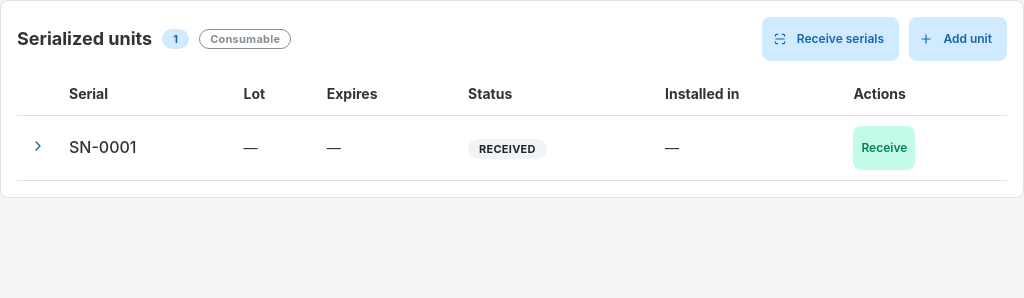
Test case: SerializedComponentsPanel › loads and shows per-unit usage history on expand
Step 1. Click the button named "Show history" → click(38, 146), box 27,135 -> 49,157
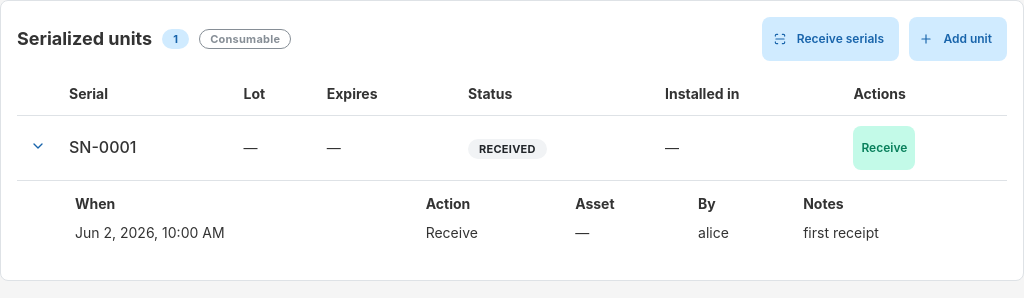
Result: the text "first receipt" is shown at 793,218 -> 991,248
Result: the text "alice" is shown at 688,218 -> 793,248
